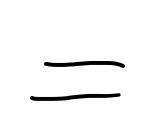eqv: (25, 59, 127, 101)
